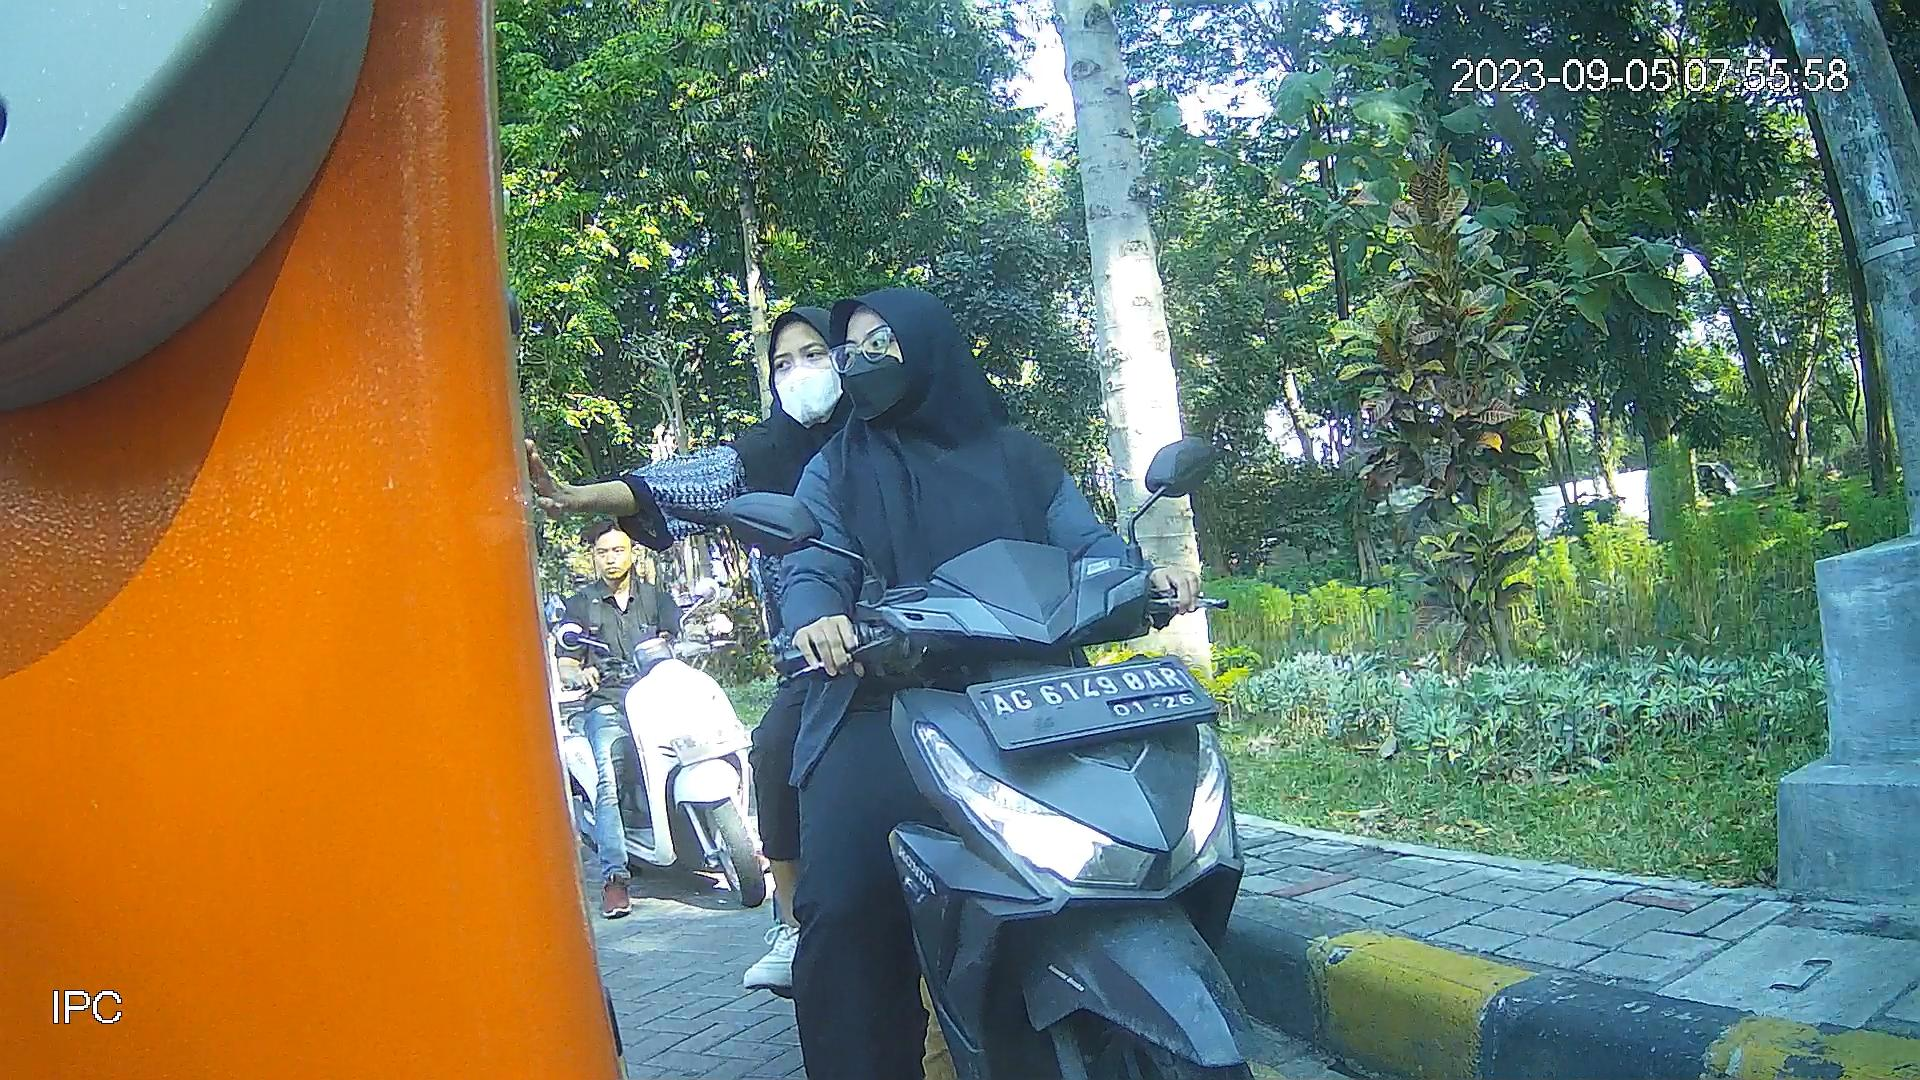plat: (963, 653, 1224, 752)
